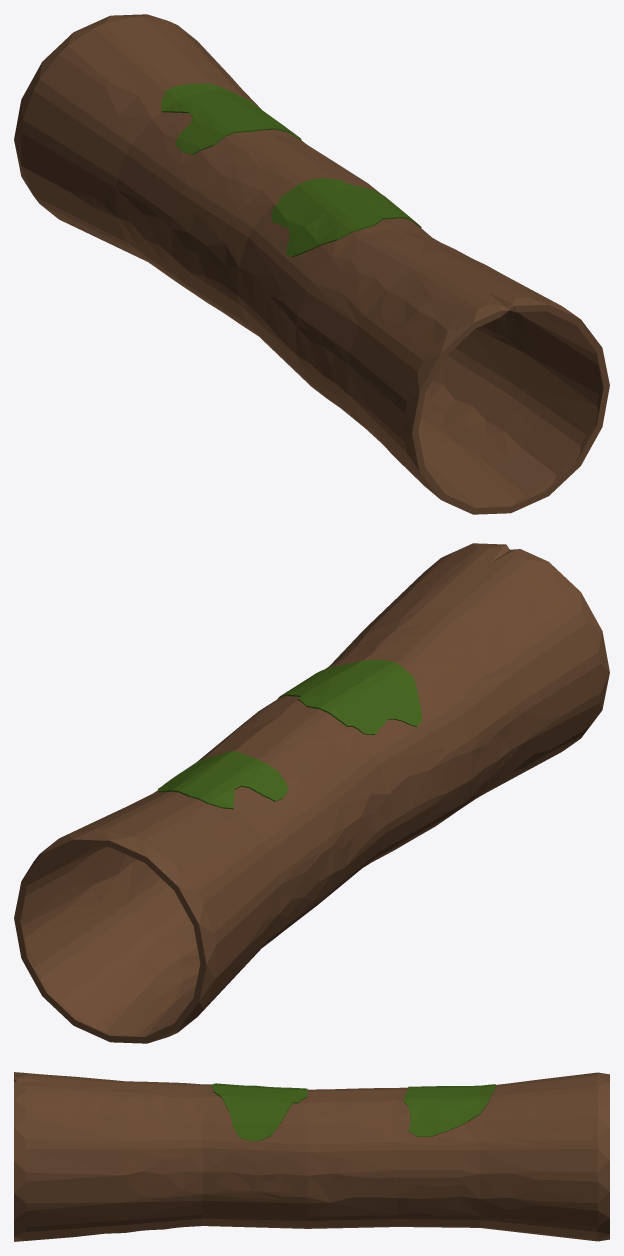
The model's file is log.fbx.
3 views of the same model, one above another, from view 1: azimuth 30°, elevation 25°; view 2: azimuth 150°, elevation 25°; view 3: azimuth 270°, elevation 25° (orthographic). The views are drawn at different scales.
Visible parts, largest first — view 1: Fallen_Log; view 2: Fallen_Log; view 3: Fallen_Log.
Boxes of the visible parts, x1=… form: Fallen_Log: x1=14, y1=14, x2=609, y2=514; Fallen_Log: x1=14, y1=543, x2=609, y2=1043; Fallen_Log: x1=14, y1=1072, x2=609, y2=1241.
Size of the model in its own units: 234 by 233 by 819.
